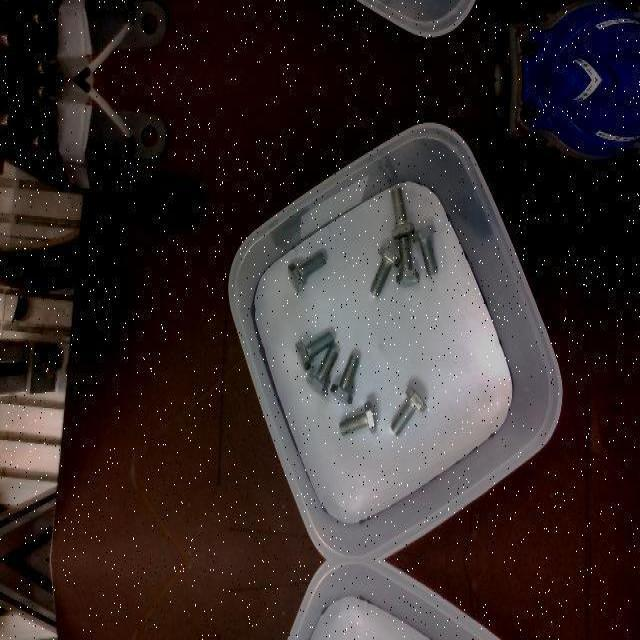screw: (390, 386, 427, 436), (380, 188, 415, 240), (306, 346, 339, 396), (287, 251, 325, 293), (295, 331, 334, 371), (370, 245, 401, 295), (330, 353, 359, 403), (411, 225, 438, 277), (338, 400, 376, 436), (395, 236, 419, 286)
